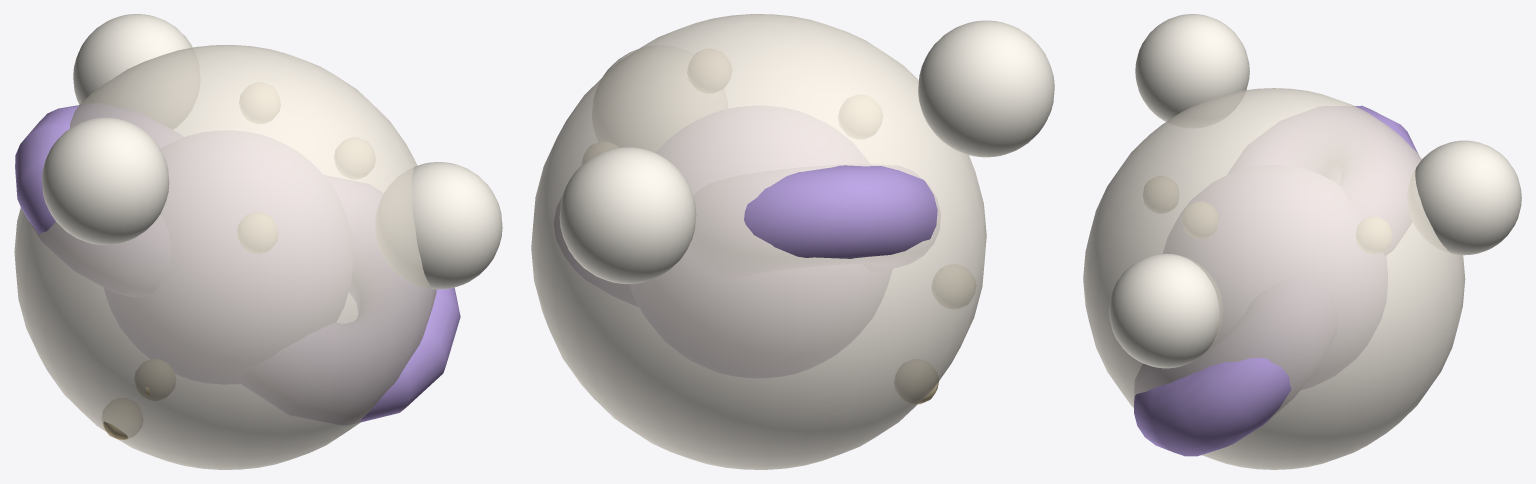
The model's file is white-blood-cell.glb.
The picture shows the model from 3 angles, left to right: view 1: azimuth 30°, elevation 25°; view 2: azimuth 150°, elevation 25°; view 3: azimuth 270°, elevation 25°; orthographic projection. The views are drawn at different scales.
Visible parts, largest first — view 1: cell_membrane, pseudopod_2, pseudopod_1, lobed_nucleus_lobe_1, pseudopod_3, nucleus, lobed_nucleus_lobe_2; view 2: cell_membrane, lobed_nucleus_lobe_2, pseudopod_2, pseudopod_3, nucleus, pseudopod_1; view 3: cell_membrane, lobed_nucleus_lobe_1, pseudopod_1, pseudopod_3, pseudopod_2, nucleus, lobed_nucleus_lobe_2.
Part boxes in pixels (<box>): cell_membrane: <box>14,45,436,469</box>; pseudopod_2: <box>42,117,169,244</box>; pseudopod_1: <box>376,162,502,289</box>; lobed_nucleus_lobe_1: <box>242,177,460,424</box>; pseudopod_3: <box>73,14,199,126</box>; nucleus: <box>104,131,351,383</box>; lobed_nucleus_lobe_2: <box>15,103,181,296</box>; cell_membrane: <box>531,14,986,469</box>; lobed_nucleus_lobe_2: <box>690,164,937,278</box>; pseudopod_2: <box>918,20,1054,157</box>; pseudopod_3: <box>559,147,696,283</box>; nucleus: <box>635,106,881,377</box>; pseudopod_1: <box>593,46,727,151</box>; cell_membrane: <box>1083,88,1465,469</box>; lobed_nucleus_lobe_1: <box>1134,280,1335,456</box>; pseudopod_1: <box>1109,253,1222,368</box>; pseudopod_3: <box>1408,140,1521,255</box>; pseudopod_2: <box>1135,14,1249,127</box>; nucleus: <box>1165,165,1386,388</box>; lobed_nucleus_lobe_2: <box>1233,105,1418,247</box>.
Bounding box in the file's own units: 1.2 × 1.07 × 1.19.
